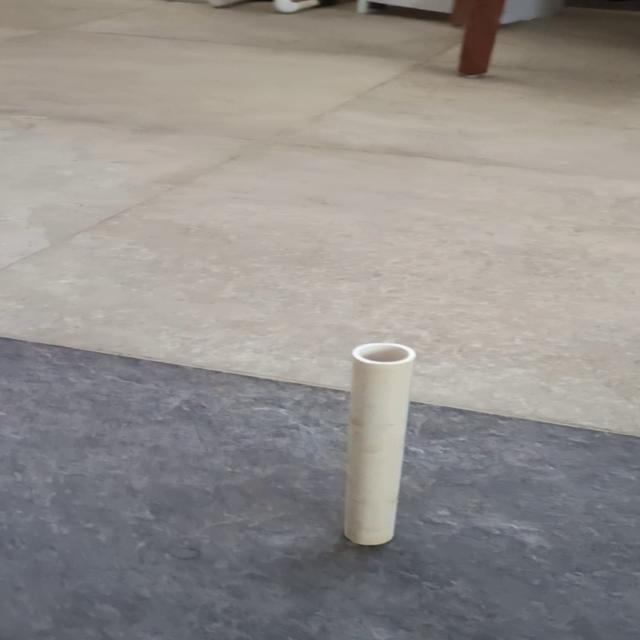Cube: (340, 342, 416, 546)
